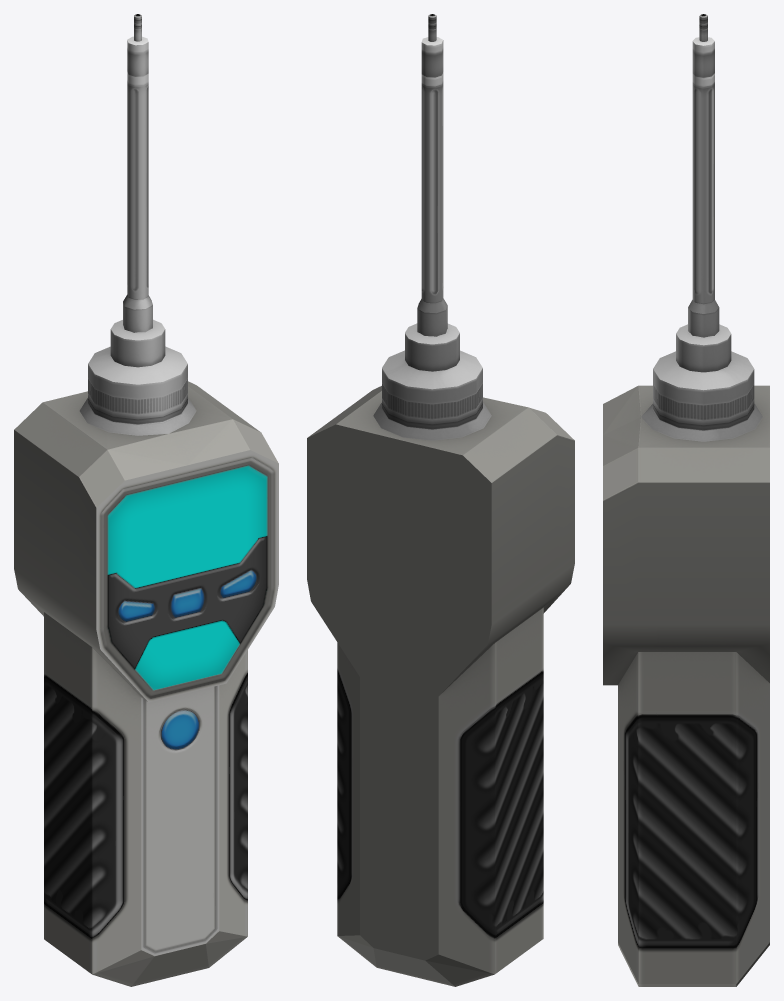
The model's file is air_leak_detector.obj.
3 views of the same model, side by side, from view 1: azimuth 30°, elevation 25°; view 2: azimuth 150°, elevation 25°; view 3: azimuth 270°, elevation 25° (orthographic).
Parts seen in each view (by area): view 1: air_leak_detector; view 2: air_leak_detector; view 3: air_leak_detector.
Part boxes in pixels (<box>): air_leak_detector: <box>14,14,278,986</box>; air_leak_detector: <box>307,14,574,986</box>; air_leak_detector: <box>603,14,769,986</box>.
Bounding box in the file's own units: 3.52 × 17.31 × 2.74.
